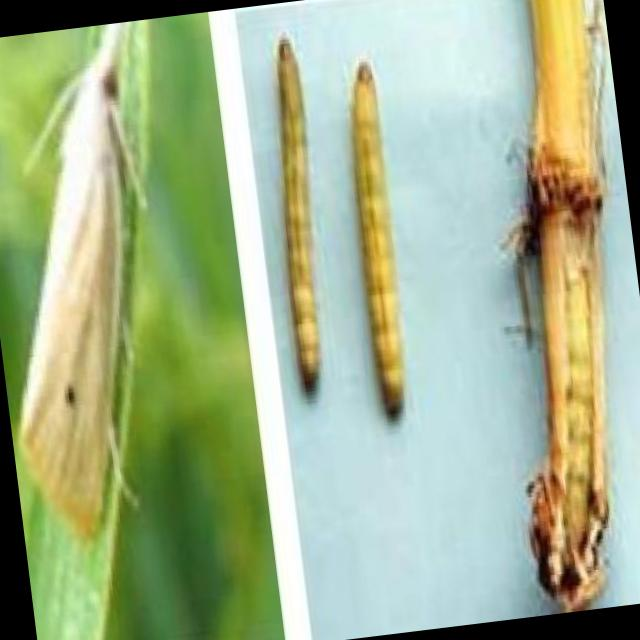stem-borer: (0, 21, 189, 551)
